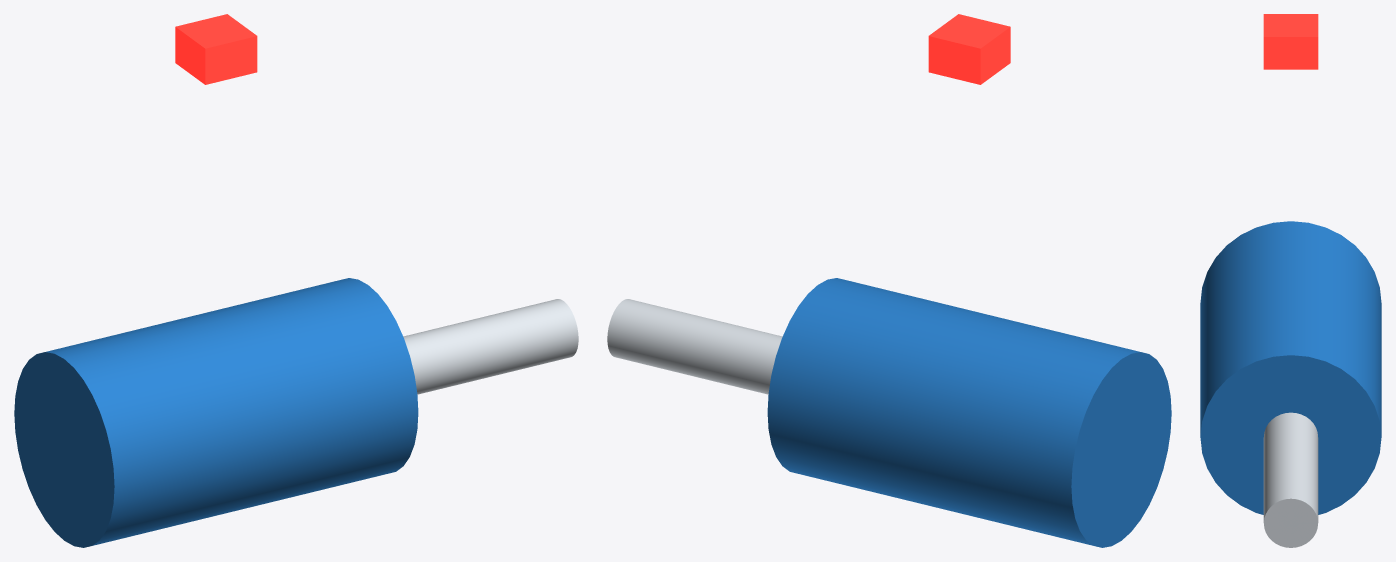
Rendered from Motor.gltf.
3 renders of one model, left to right at view 1: azimuth 30°, elevation 25°; view 2: azimuth 150°, elevation 25°; view 3: azimuth 270°, elevation 25°, orthographic. The views are drawn at different scales.
Visible parts, largest first — view 1: Body, Motion, Fault; view 2: Body, Motion, Fault; view 3: Body, Motion, Fault.
Boxes of the visible parts, x1=… form: Body: x1=14, y1=278, x2=418, y2=547; Motion: x1=403, y1=299, x2=578, y2=394; Fault: x1=175, y1=14, x2=257, y2=84; Body: x1=767, y1=278, x2=1171, y2=547; Motion: x1=607, y1=299, x2=782, y2=394; Fault: x1=928, y1=14, x2=1010, y2=84; Body: x1=1200, y1=221, x2=1381, y2=514; Motion: x1=1263, y1=412, x2=1318, y2=547; Fault: x1=1263, y1=14, x2=1318, y2=69.
Size of the model in its own units: 0.575 by 0.52 by 0.2.
